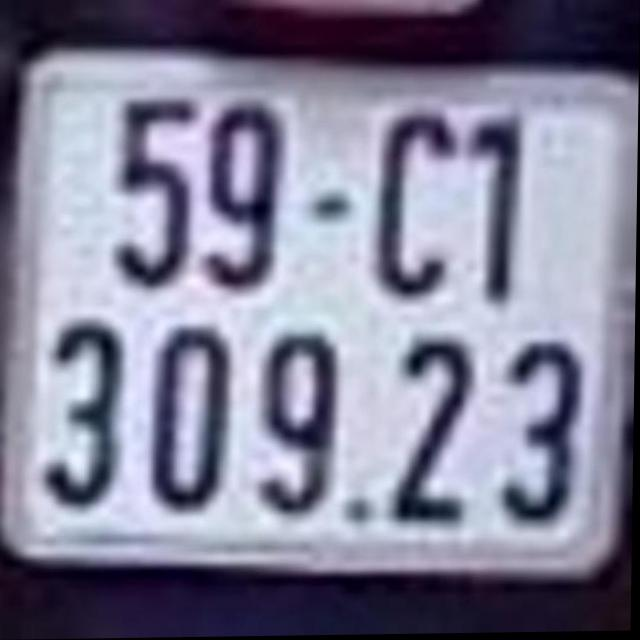0: (153, 324, 224, 510)
1: (469, 125, 520, 295)
2: (397, 341, 467, 519)
3: (507, 337, 579, 525), (57, 323, 117, 506)
5: (125, 100, 193, 282)
9: (262, 331, 339, 513), (210, 104, 276, 288)
C: (380, 116, 452, 293)
